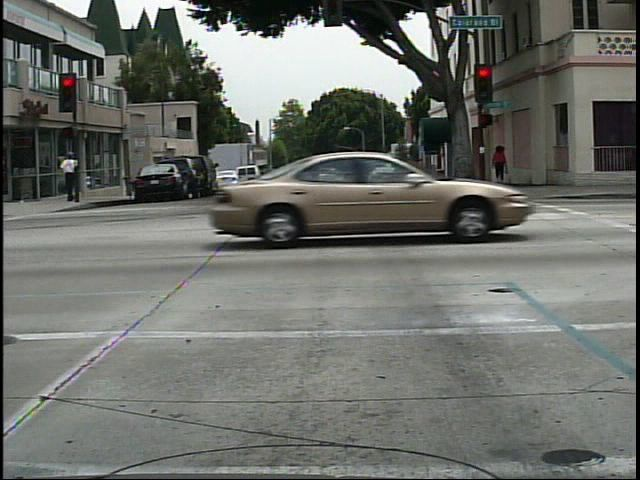person: (58, 143, 79, 206), (490, 141, 508, 186)
